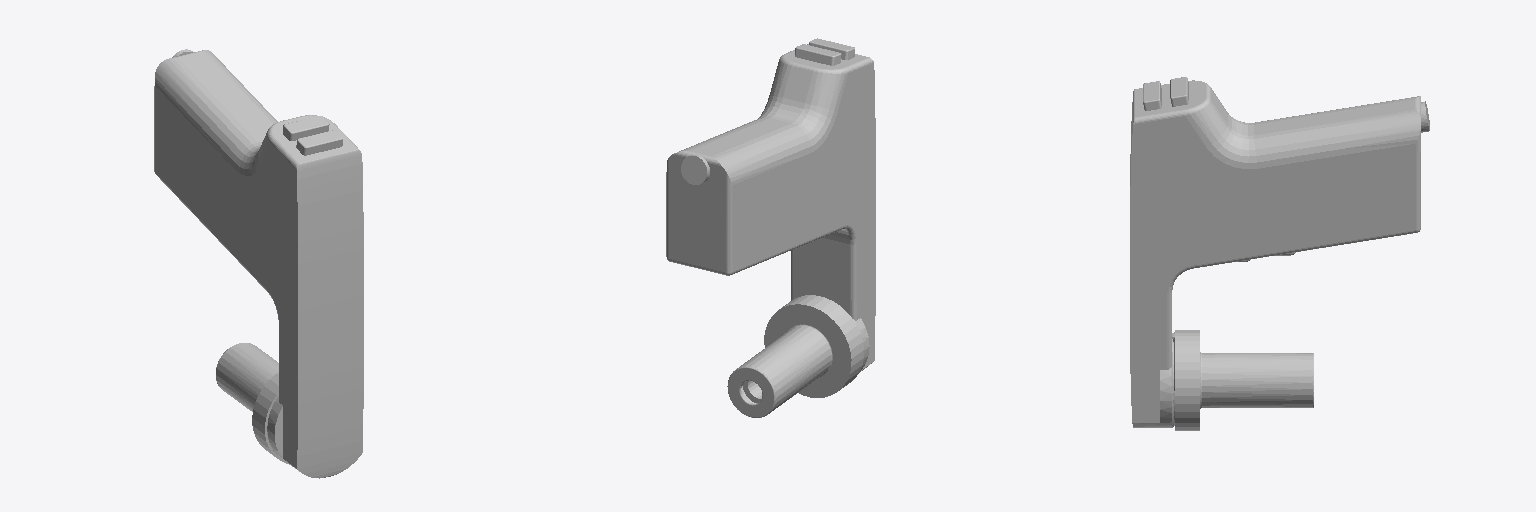
File: pipette_abuse.obj
The picture shows the model from 3 angles: view 1: azimuth 30°, elevation 25°; view 2: azimuth 150°, elevation 25°; view 3: azimuth 270°, elevation 25°; orthographic projection.
Visible parts, largest first — view 1: Body1:4, Body1:2; view 2: Body1:4, Body1:2; view 3: Body1:4, Body1:2.
Part boxes in pixels (left/top/right/bottom): Body1:4: left=154, top=49, right=363, bottom=478; Body1:2: left=216, top=343, right=289, bottom=464; Body1:4: left=666, top=38, right=875, bottom=372; Body1:2: left=727, top=295, right=863, bottom=417; Body1:4: left=1130, top=77, right=1429, bottom=427; Body1:2: left=1175, top=330, right=1313, bottom=430.
Bounding box in the file's own units: 3.99 × 14.86 × 11.91.